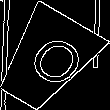O_SW: (11, 27, 81, 93)
